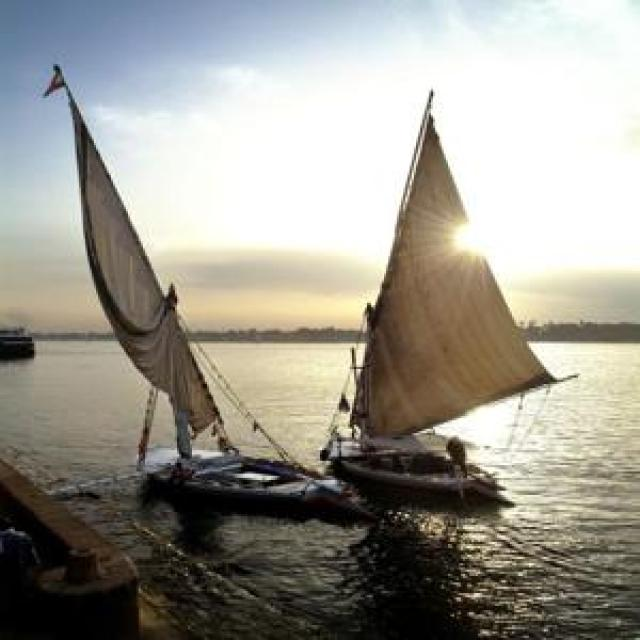sailboat: (47, 61, 353, 511), (328, 77, 536, 499)
